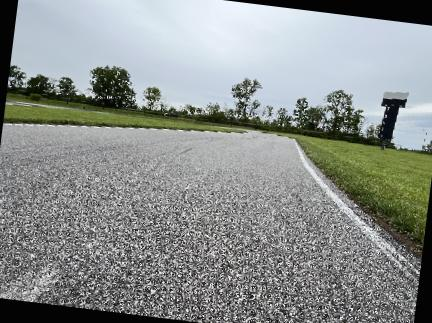Grass: (284, 135, 431, 248), (6, 94, 234, 127), (3, 104, 245, 132)
Lane: (0, 124, 417, 322)
